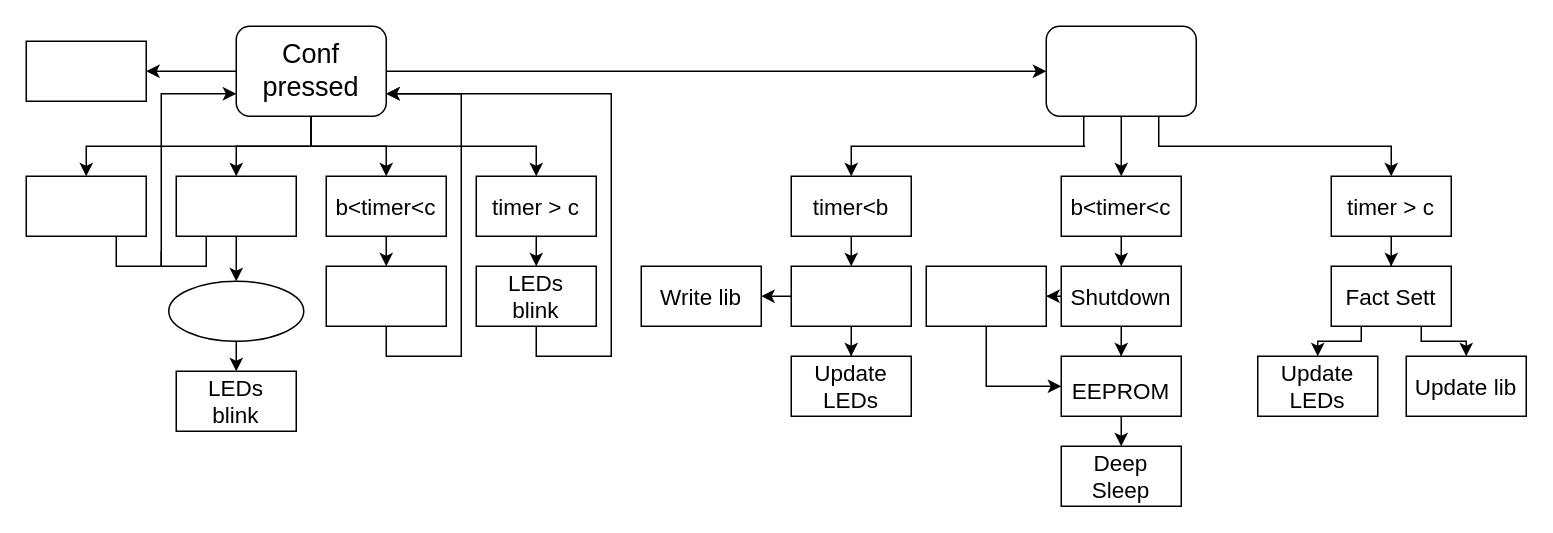
Some shapes in this 1553 by 533 pixel diagram are drawn without their labels. The box of each missing label's shape, as (x1, y1, x2, y2) in pixels:
a<timer<b: (175, 175, 296, 236)
Conf Released: (1045, 25, 1196, 116)
Conf++: (790, 265, 911, 326)
if not connected: (167, 280, 304, 341)
LEDs off: (325, 265, 446, 326)
read lib: (925, 265, 1046, 326)
SleepTimer Reset: (25, 40, 146, 101)
Timer<a debounce: (25, 175, 146, 236)
